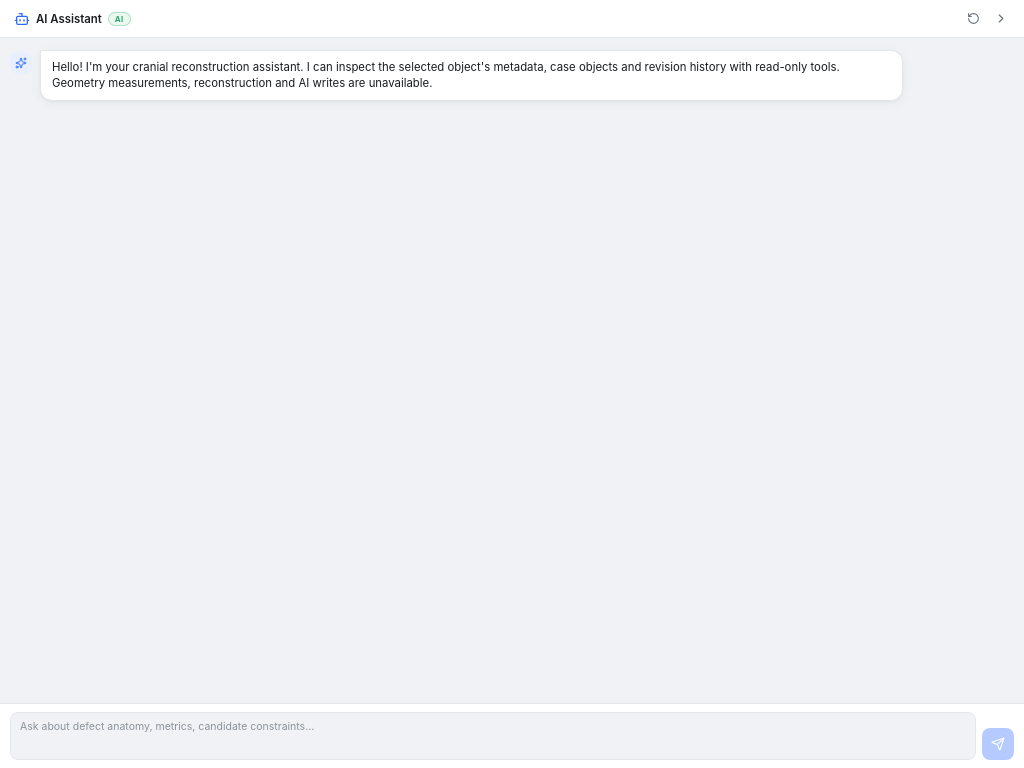
Test: staged proposal review card › discards without writing or reloading
The width and height of the screenshot is (1024, 768).
Type "Shift it 5 mm" into the text box named "Message for AI assistant" at (493, 736), box [10,712,976,760]
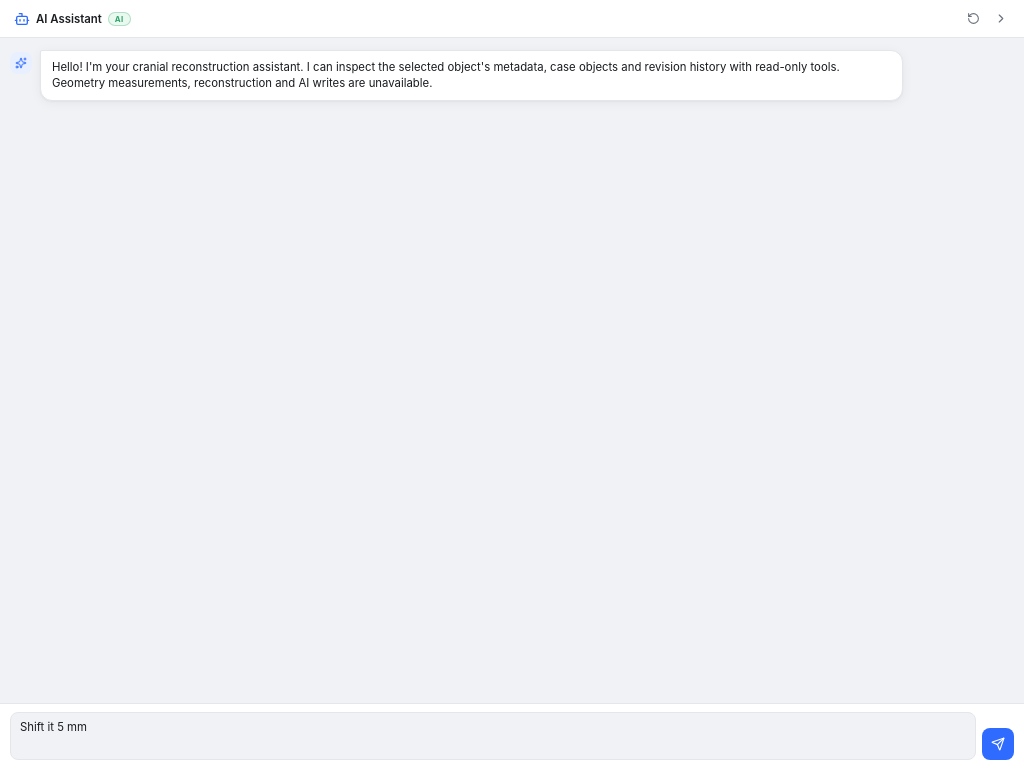
Click the button named "Send message to AI assistant" at (998, 744), box [982,728,1014,760]
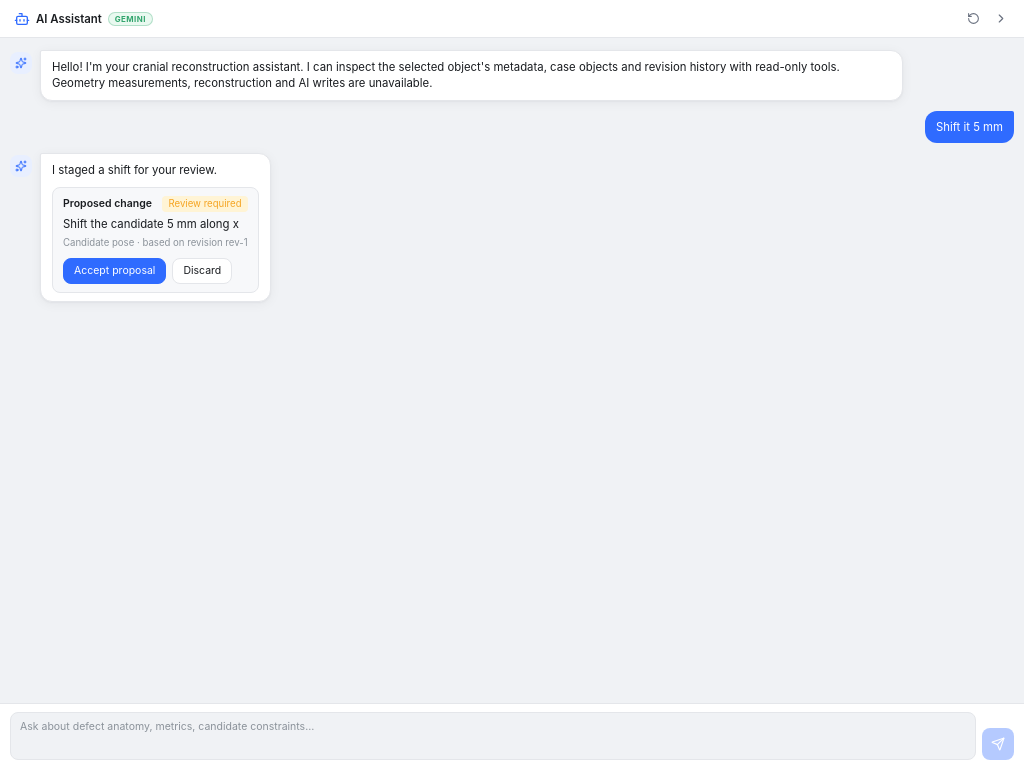
Expected: the element "Proposed change" is shown, [52,187,259,292]
Click the button "Discard" at (202, 271), box [172,258,232,284]
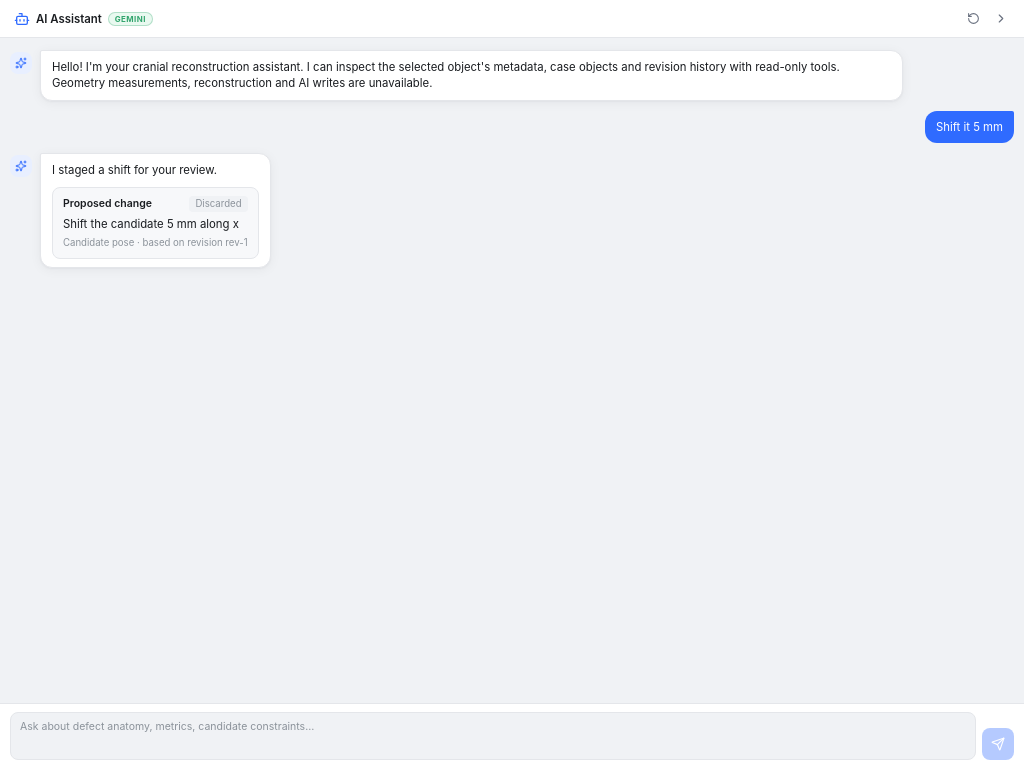
Expected: the text "Discarded" is shown, [189,196,248,212]
